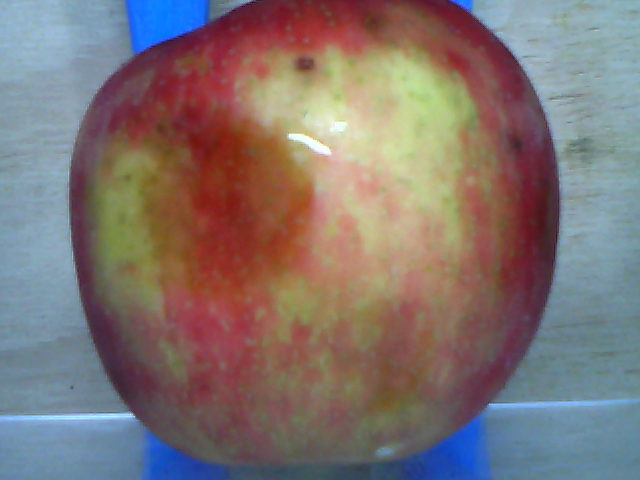bruise: (148, 107, 315, 281)
